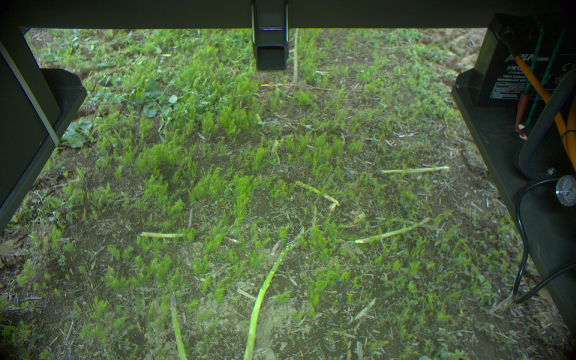aspa: (238, 243, 299, 360), (356, 216, 431, 247), (168, 286, 190, 360), (295, 177, 339, 208), (290, 27, 302, 85), (379, 164, 448, 173), (140, 228, 189, 240)
